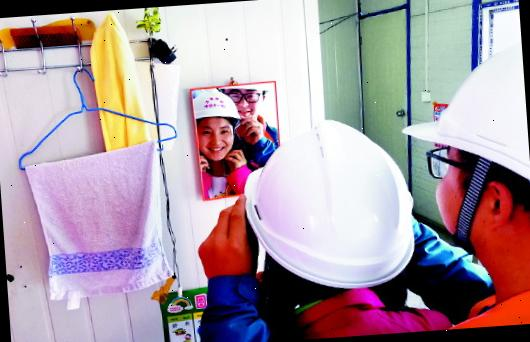helmet: (237, 115, 414, 284), (404, 42, 529, 174)
